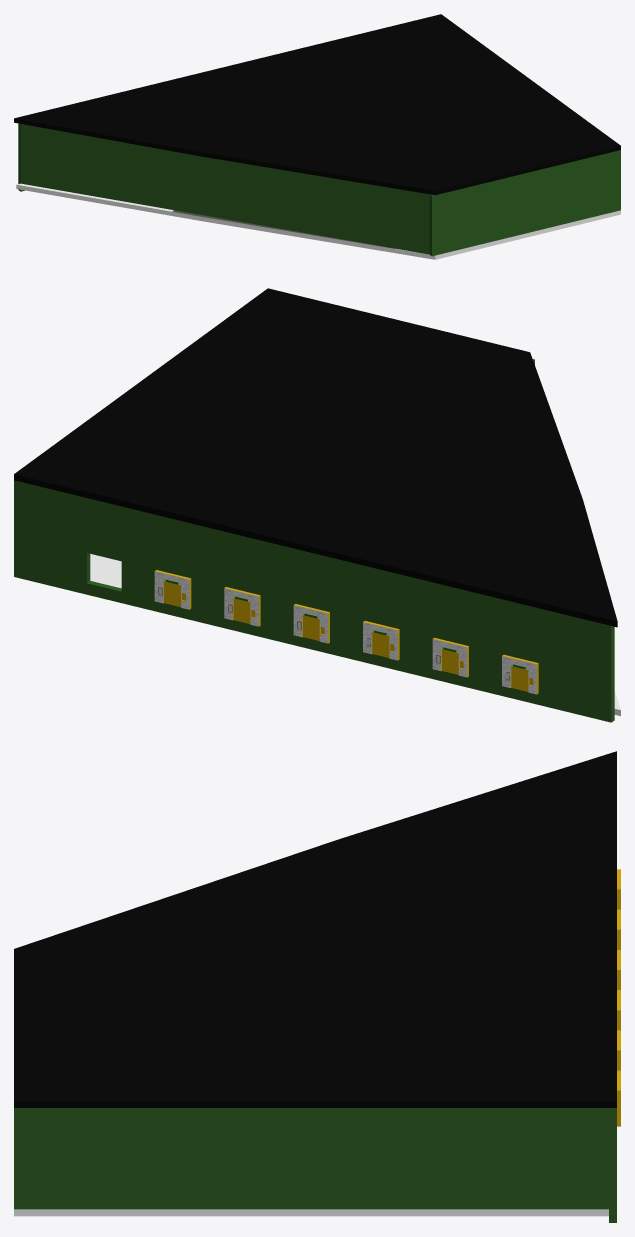
The model's file is Casino Level 2.glb.
3 renders of one model, top to bottom at view 1: azimuth 30°, elevation 25°; view 2: azimuth 150°, elevation 25°; view 3: azimuth 270°, elevation 25°, orthographic. The views are drawn at different scales.
Parts seen in each view (by area): view 1: Ceiling, Wall.002, Wall.001, Floor; view 2: Ceiling, Wall.003, Elev - Inop, Floor; view 3: Ceiling, Wall, Floor, Elev - Inop, Wall.003.
Part boxes in pixels (x1=…): Ceiling: x1=14, y1=14, x2=620, y2=195; Wall.002: x1=20, y1=124, x2=429, y2=254; Wall.001: x1=429, y1=151, x2=616, y2=256; Floor: x1=16, y1=183, x2=620, y2=259; Ceiling: x1=14, y1=288, x2=617, y2=627; Wall.003: x1=14, y1=480, x2=614, y2=722; Elev - Inop: x1=154, y1=570, x2=538, y2=694; Floor: x1=90, y1=554, x2=620, y2=716; Ceiling: x1=14, y1=751, x2=616, y2=1107; Wall: x1=14, y1=1108, x2=608, y2=1209; Floor: x1=14, y1=1209, x2=608, y2=1216; Elev - Inop: x1=617, y1=869, x2=620, y2=1126; Wall.003: x1=609, y1=1108, x2=616, y2=1222.
Size of what is drawn, in the model's own units: 63.58 by 10.34 by 46.63.
Materials: 10 (1 with a texture image).
